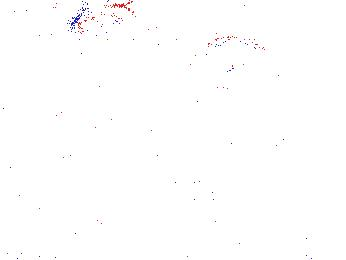moon jellyfish: (185, 36, 284, 154), (104, 26, 177, 122), (1, 1, 55, 84), (75, 4, 143, 64), (121, 1, 221, 41)
